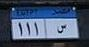1: (33, 22, 39, 35), (18, 22, 23, 36), (26, 22, 30, 36)
seen: (57, 24, 68, 34)
